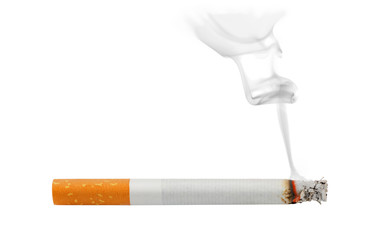cigarette: (44, 174, 333, 210)
